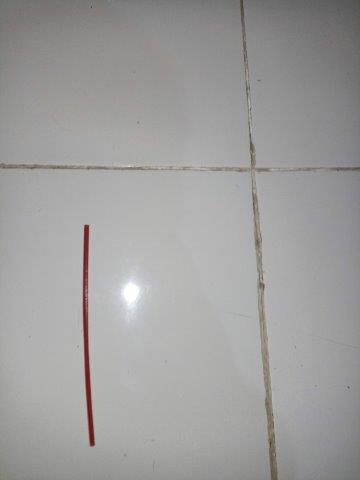sedotan: (83, 225, 95, 446)
